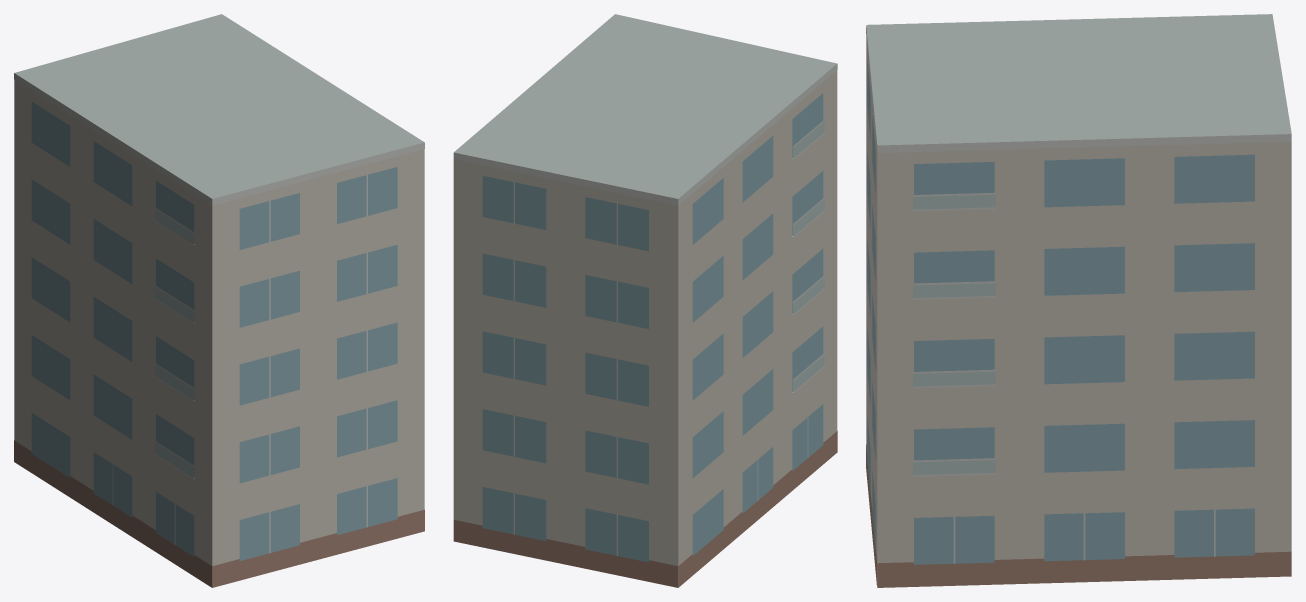
Rendered from survey-upis-32891672.glb.
3 views of the same model, side by side, from view 1: azimuth 30°, elevation 25°; view 2: azimuth 150°, elevation 25°; view 3: azimuth 270°, elevation 25° (orthographic). The views are drawn at different scales.
Visible parts, largest first — view 1: survey-upis-32891672.tmp; view 2: survey-upis-32891672.tmp; view 3: survey-upis-32891672.tmp.
Part boxes in pixels (x1,y1,x2,y2): survey-upis-32891672.tmp: [14, 14, 424, 587]; survey-upis-32891672.tmp: [453, 14, 837, 587]; survey-upis-32891672.tmp: [866, 14, 1291, 587].
Size of the model in its own units: 9.12 by 14.3 by 12.48.
